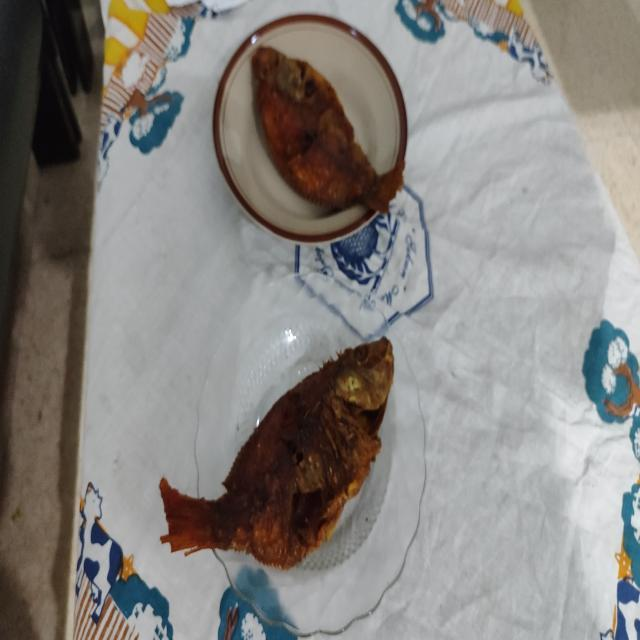ikan_mujair: (160, 336, 393, 570), (252, 47, 404, 214)
